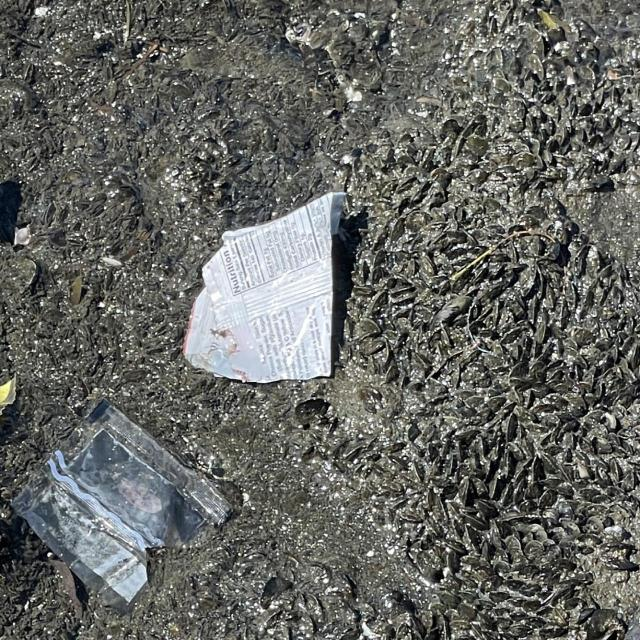plastic_waste: (12, 398, 234, 616), (187, 189, 349, 383)
